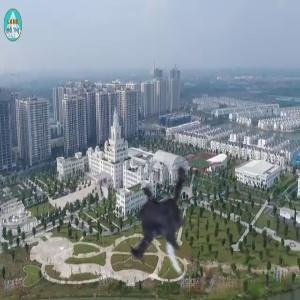drone: (95, 158, 235, 298)
